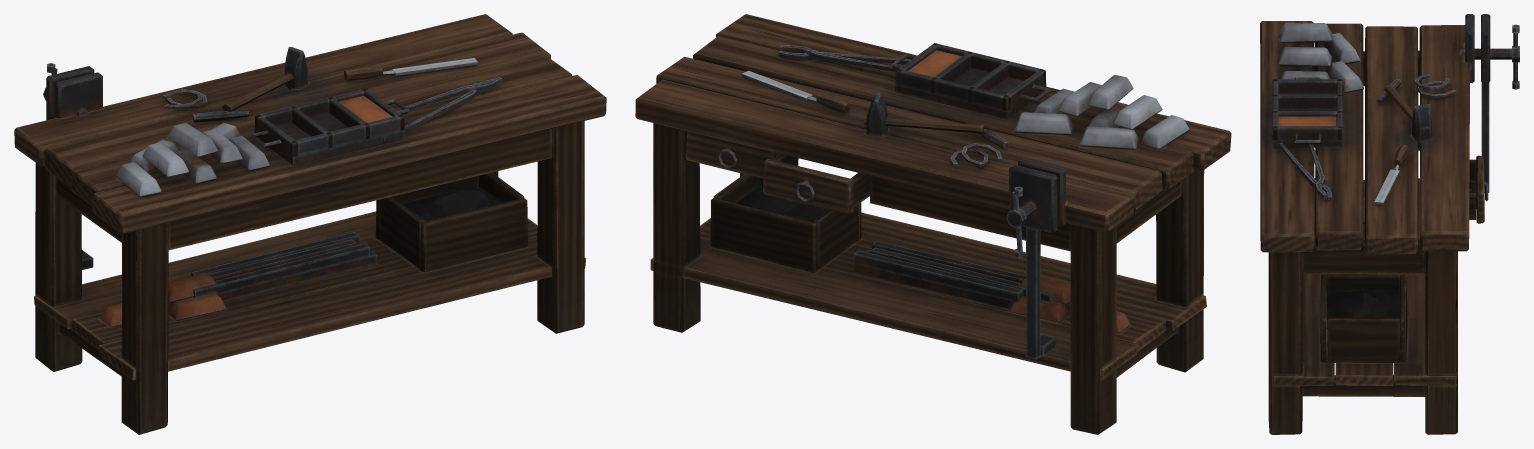
File: forja_mesa.fbx
3 views of the same model, side by side, from view 1: azimuth 30°, elevation 25°; view 2: azimuth 150°, elevation 25°; view 3: azimuth 270°, elevation 25° (orthographic). The views are drawn at different scales.
Parts seen in each view (by area): view 1: forja_mesa; view 2: forja_mesa; view 3: forja_mesa.
Boxes of the visible parts, x1,y1,x2,y2 form: forja_mesa: [14, 14, 606, 434]; forja_mesa: [635, 14, 1231, 434]; forja_mesa: [1260, 14, 1519, 434].
Size of the model in its own units: 6.54 by 3.48 by 3.33.
1 material, 1 textured.
